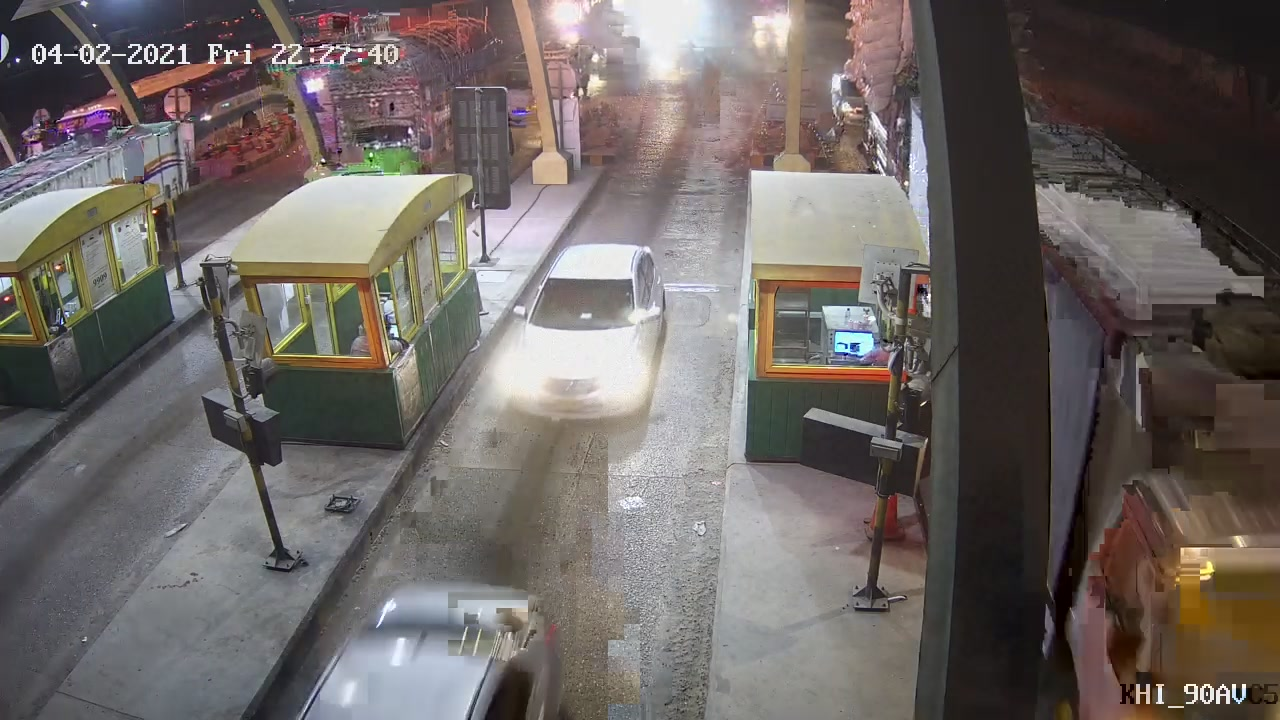F1: (498, 239, 668, 427)
